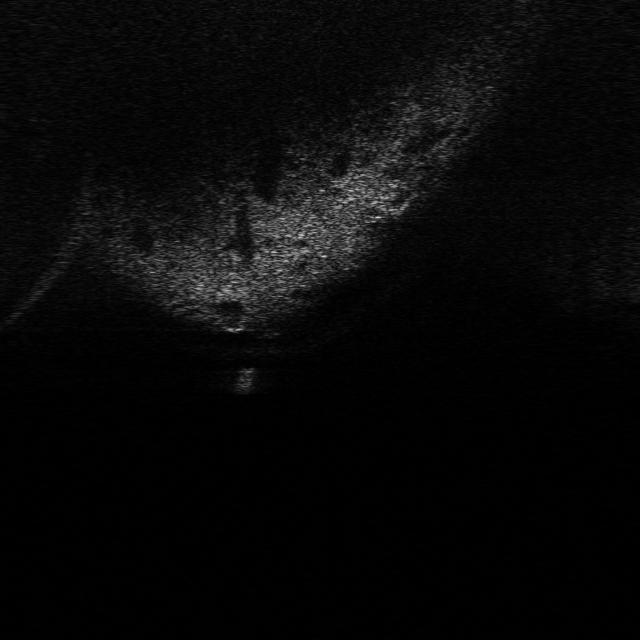cylinder: (228, 365, 260, 395)
